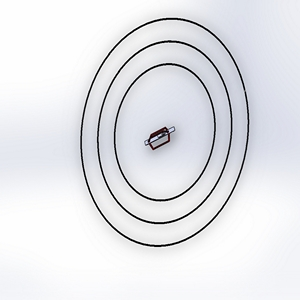circle: (76, 11, 254, 252)
submarine: (140, 119, 185, 164)
